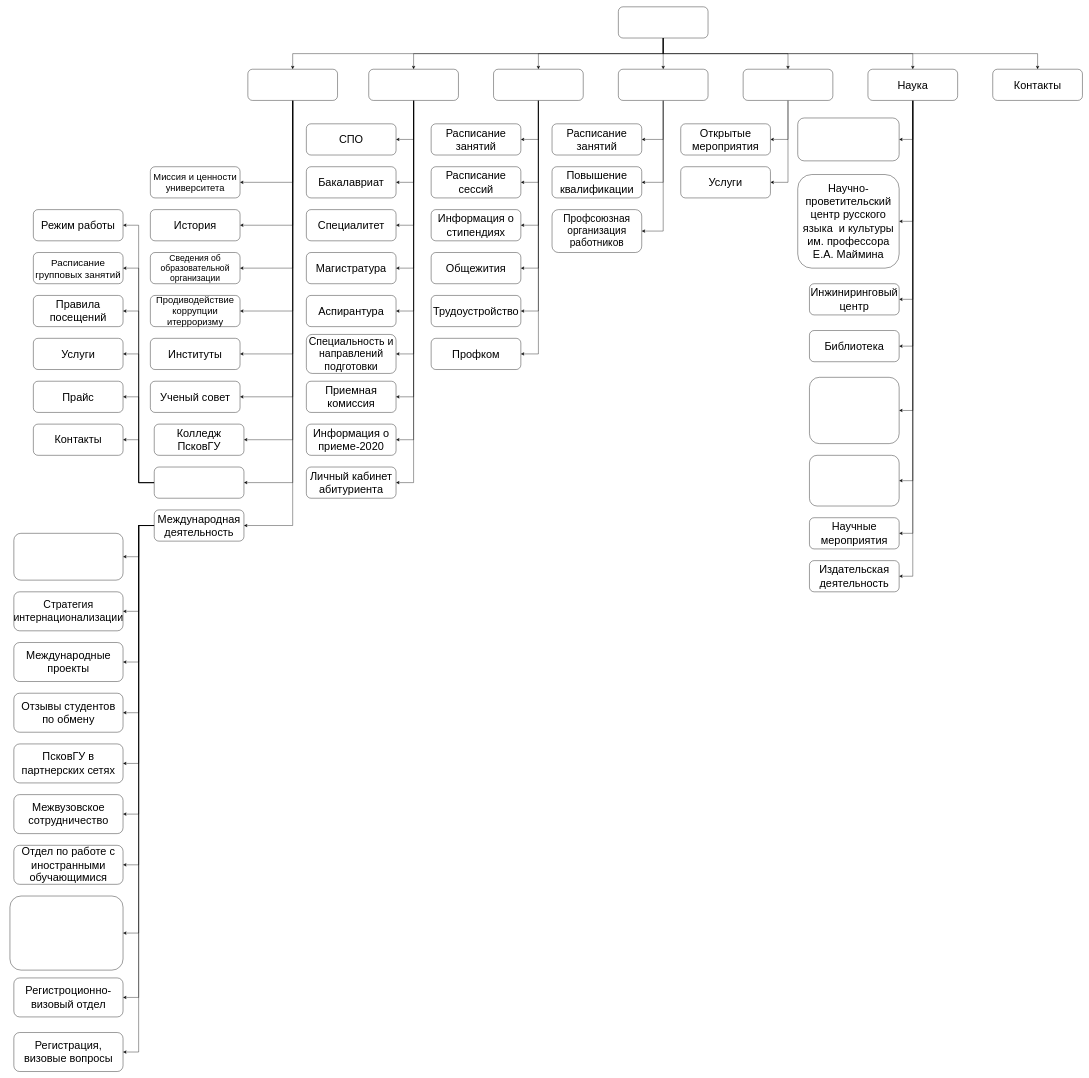
Some shapes in this 1089 by 1078 pixel diagram are drawn without their labels. The shapes that lost their labels are listed below. From the top down, each one's centre as x and y in pixels, then its label:
the point at 663,22: Главная
the point at 292,84: Университет
the point at 413,84: Абитуриентам
the point at 538,84: Студентам
the point at 663,84: Сотрудникам
the point at 788,84: Партнерам
the point at 848,139: Научно-исследовательские лаборатории
the point at 854,410: Основные направления научных мследований
the point at 199,482: Бассейн "Универсант"
the point at 854,480: Научная работа молодых ученых и студентов
the point at 68,556: Отдел академической мобильности и межвузового сотрудничества
the point at 66,933: Отделение дополнительных образовательных программ для иностранных граждан
